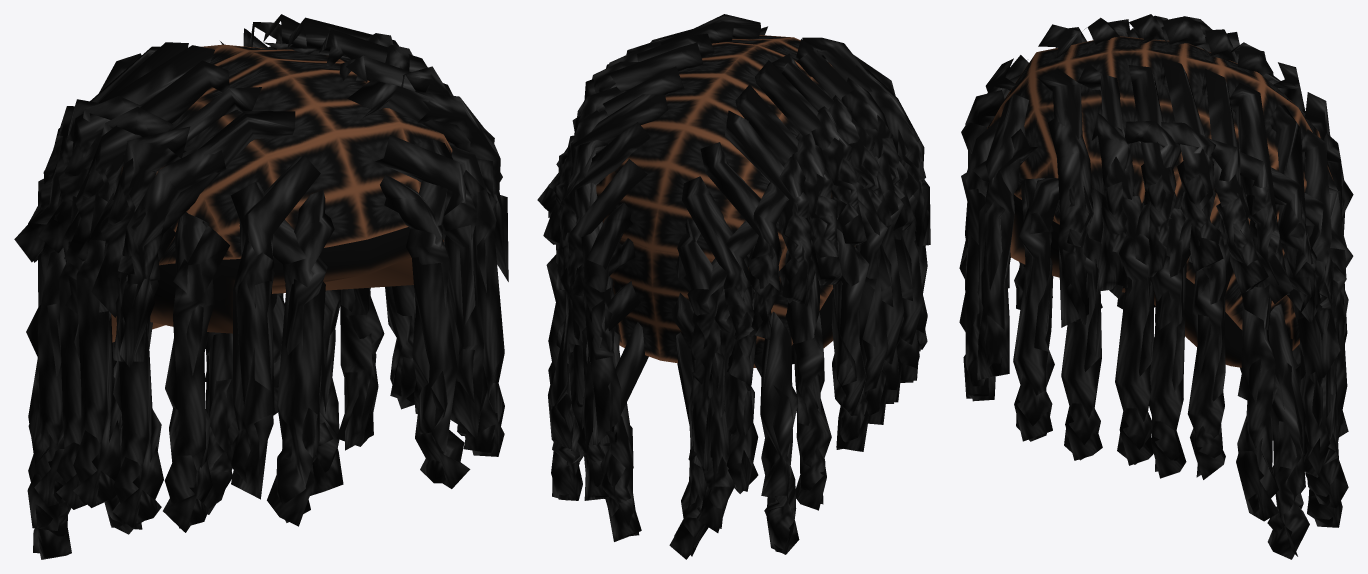
3 renders of one model, left to right at view 1: azimuth 30°, elevation 25°; view 2: azimuth 150°, elevation 25°; view 3: azimuth 270°, elevation 25°, orthographic. The views are drawn at different scales.
Parts seen in each view (by area): view 1: geometry_0; view 2: geometry_0; view 3: geometry_0.
Boxes of the visible parts, box(x1,y1,x2,y2) form: geometry_0: box(14, 14, 508, 559); geometry_0: box(537, 14, 930, 559); geometry_0: box(959, 14, 1353, 559).
Bounding box in the file's own units: 1.4 × 1.87 × 1.42.
Materials: 1 (1 with a texture image).
